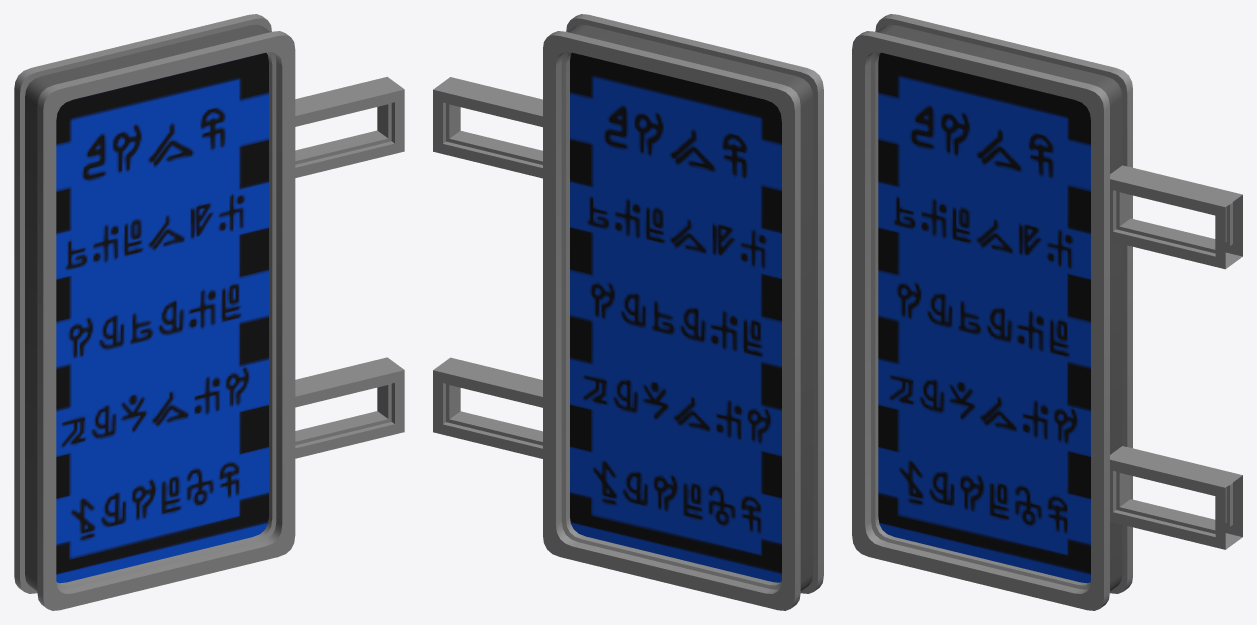
The picture shows the model from 3 angles, left to right: view 1: azimuth 30°, elevation 25°; view 2: azimuth 150°, elevation 25°; view 3: azimuth 330°, elevation 25°; orthographic projection.
Visible parts, largest first — view 1: MS_2M_5; view 2: MS_2M_5; view 3: MS_2M_5.
Boxes of the visible parts, x1,y1,x2,y2 form: MS_2M_5: (14, 14, 404, 610); MS_2M_5: (433, 14, 823, 610); MS_2M_5: (852, 14, 1242, 610).
Bounding box in the file's own units: 146 × 198 × 19.93.
